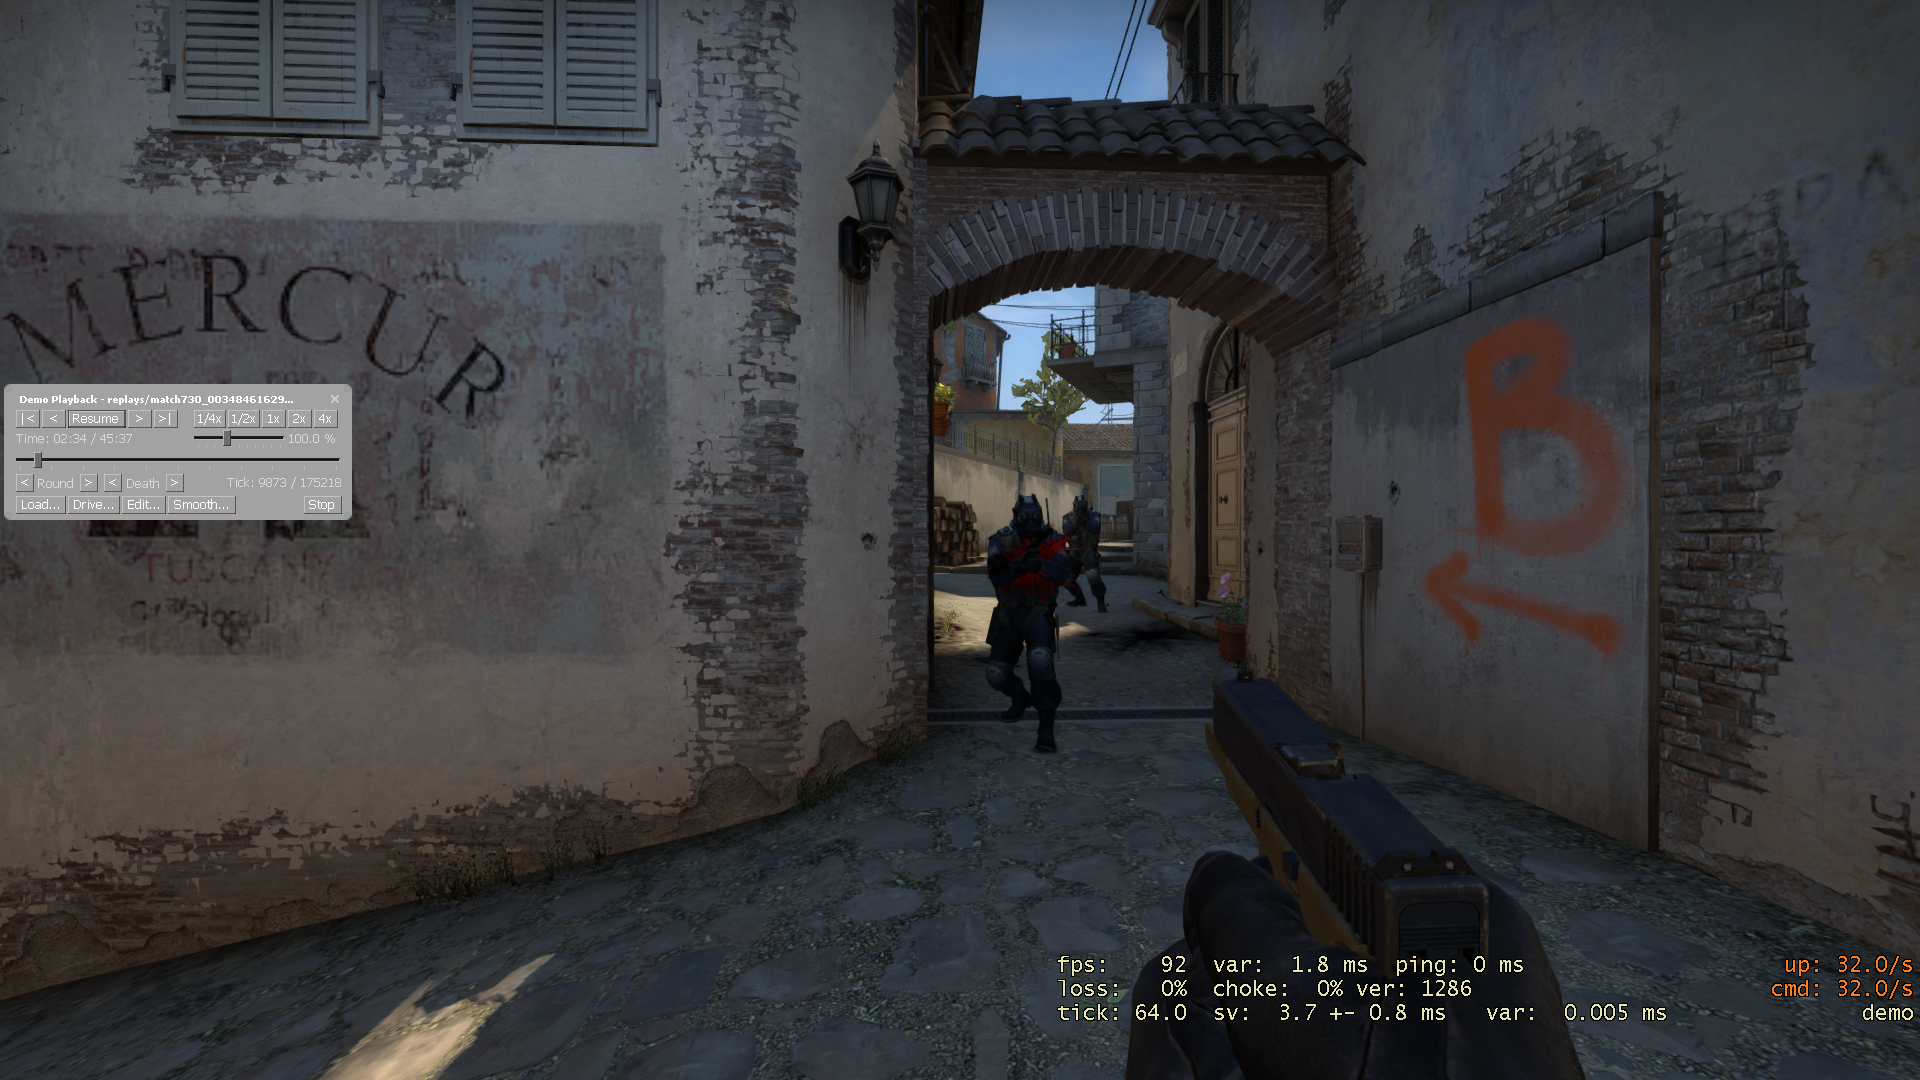ct: (986, 496, 1075, 754), (1063, 495, 1110, 615)
